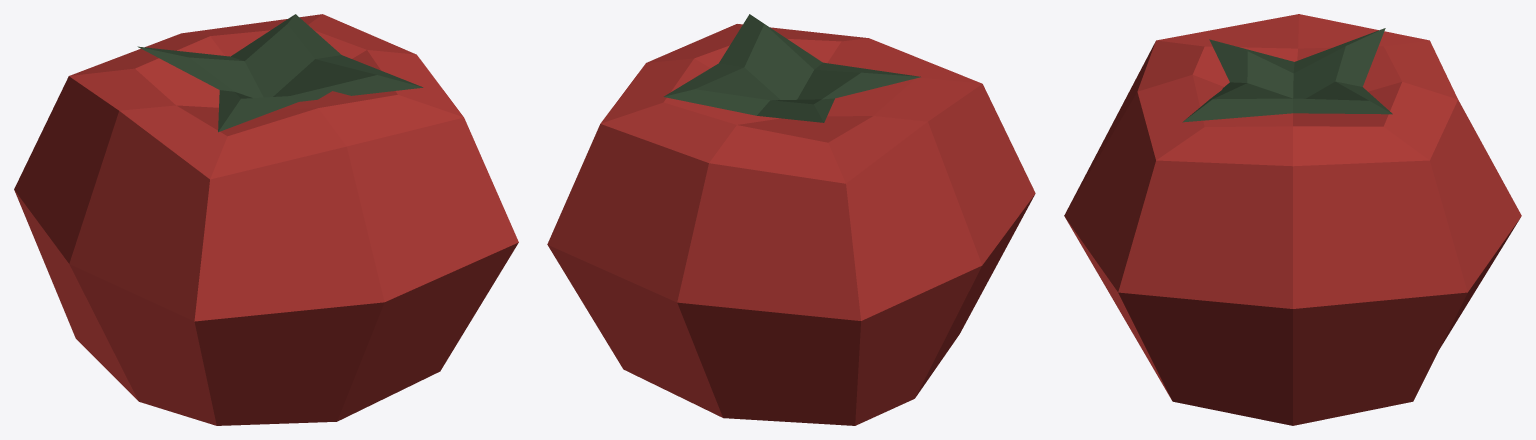
File: tomatoWithLeaf.fbx
3 views of the same model, side by side, from view 1: azimuth 30°, elevation 25°; view 2: azimuth 150°, elevation 25°; view 3: azimuth 270°, elevation 25° (orthographic). The views are drawn at different scales.
Parts seen in each view (by area): view 1: tomatoWithLeaf; view 2: tomatoWithLeaf; view 3: tomatoWithLeaf.
Boxes of the visible parts, bbox=[...] form: tomatoWithLeaf: bbox=[14, 14, 518, 425]; tomatoWithLeaf: bbox=[547, 14, 1035, 425]; tomatoWithLeaf: bbox=[1064, 14, 1521, 425].
Bounding box in the file's own units: 10.63 × 8.34 × 11.02.
1 material, 1 textured.
